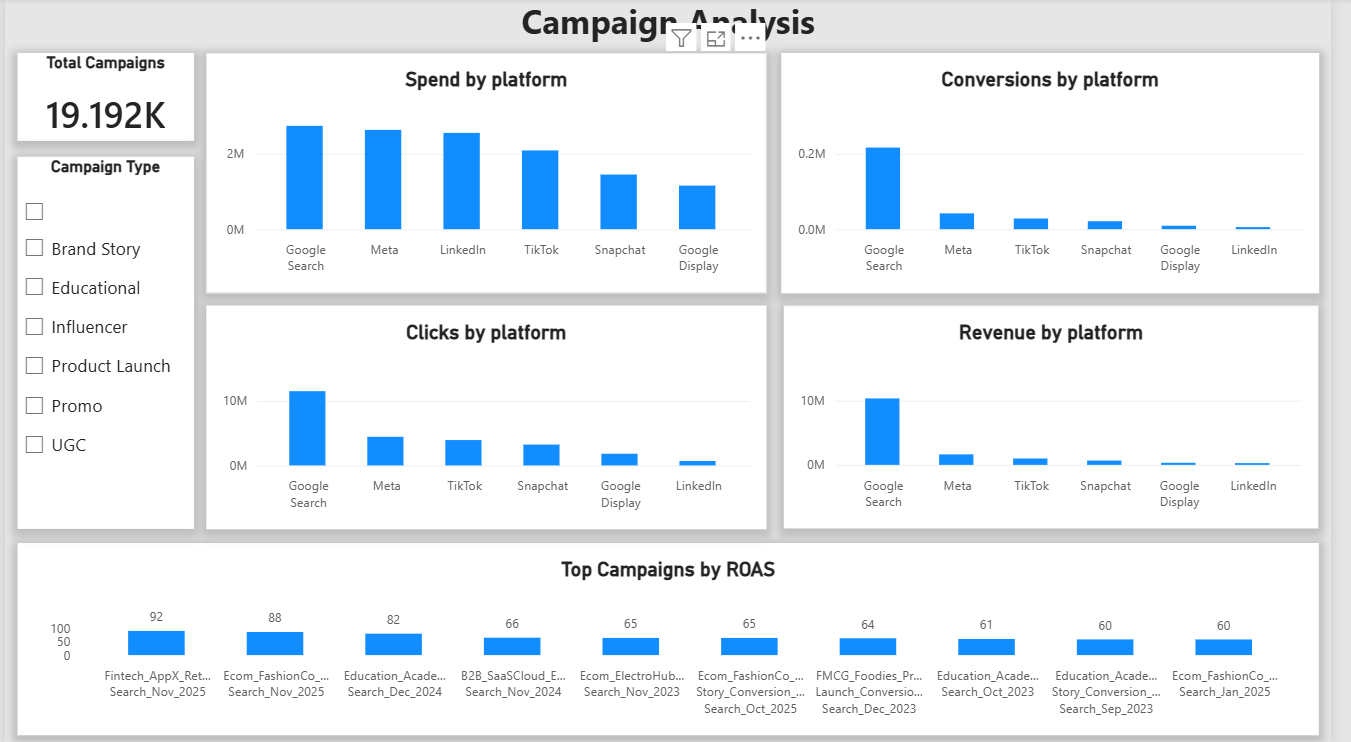

What the dashboard file says about the page in this screenshot:
{"tool":"powerbi","page":{"name":"Campaign Analysis","canvas":[1280,720],"ordinal":1},"visuals":[{"type":"textbox","box":[0,0,1280,55.5],"z":0},{"type":"cardVisual","title":"Total Campaigns","fields":{"Data":["Count(campaign_iq campaign_iq_cleaned_full.campaign_name)"]},"box":[12.1,53.1,170.1,84.5],"z":1000},{"type":"clusteredColumnChart","title":"Spend by platform","fields":{"Category":["campaign_iq campaign_iq_cleaned_full.platform"],"Y":["Sum(campaign_iq campaign_iq_cleaned_full.spend)"]},"box":[194.2,53.1,540.5,231.6],"z":2000},{"type":"clusteredColumnChart","title":"Revenue by platform","fields":{"Category":["campaign_iq campaign_iq_cleaned_full.platform"],"Y":["Sum(campaign_iq campaign_iq_cleaned_full.revenue)"]},"box":[751.6,296.8,515.9,215.4],"z":3000},{"type":"clusteredColumnChart","title":"Conversions by platform","fields":{"Category":["campaign_iq campaign_iq_cleaned_full.platform"],"Y":["Sum(campaign_iq campaign_iq_cleaned_full.conversions)"]},"box":[749.2,53.1,519,231.6],"z":4000},{"type":"clusteredColumnChart","title":"Top Campaigns by ROAS","fields":{"Category":["campaign_iq campaign_iq_cleaned_full.campaign_name"],"Y":["Avg(campaign_iq campaign_iq_cleaned_full.ROAS)"]},"box":[12.1,526,1255.9,185.8],"z":5000},{"type":"clusteredColumnChart","title":"Clicks by platform","fields":{"Category":["campaign_iq campaign_iq_cleaned_full.platform"],"Y":["Sum(campaign_iq campaign_iq_cleaned_full.clicks)"]},"box":[194.2,296.8,540.5,216],"z":6000},{"type":"slicer","title":"Campaign Type","fields":{"Values":["campaign_iq campaign_iq_cleaned_full.campaign_type"]},"box":[12.1,153.2,170.1,359.5],"z":7000}]}

Visuals, with their boxes in screenshot pixels (x1, y1, x2, y2), scaled from the page's 1280x720 canvas onto the 1351x742 screenshot:
textbox: box=[0, 0, 1350, 57]
"Total Campaigns" cardVisual: box=[13, 55, 192, 142]
"Spend by platform" clusteredColumnChart: box=[205, 55, 775, 293]
"Revenue by platform" clusteredColumnChart: box=[793, 306, 1338, 528]
"Conversions by platform" clusteredColumnChart: box=[791, 55, 1339, 293]
"Top Campaigns by ROAS" clusteredColumnChart: box=[13, 542, 1338, 734]
"Clicks by platform" clusteredColumnChart: box=[205, 306, 775, 528]
"Campaign Type" slicer: box=[13, 158, 192, 528]
